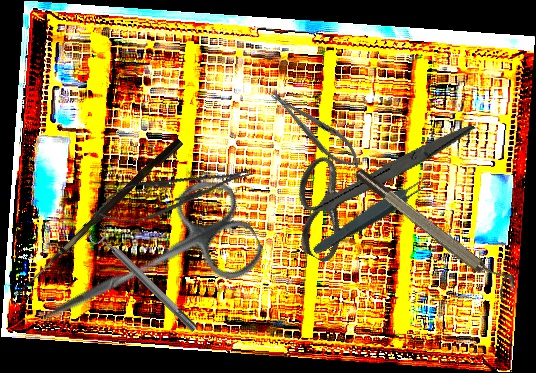Fixation Ring: (351, 158, 521, 302), (86, 222, 203, 339)
Hook Surgical: (13, 134, 184, 305)
Iris Scissors: (20, 169, 271, 369), (271, 67, 478, 297)
Needle Holder: (86, 153, 259, 234), (264, 83, 368, 176)
Tissue Forceps: (309, 170, 437, 260)
